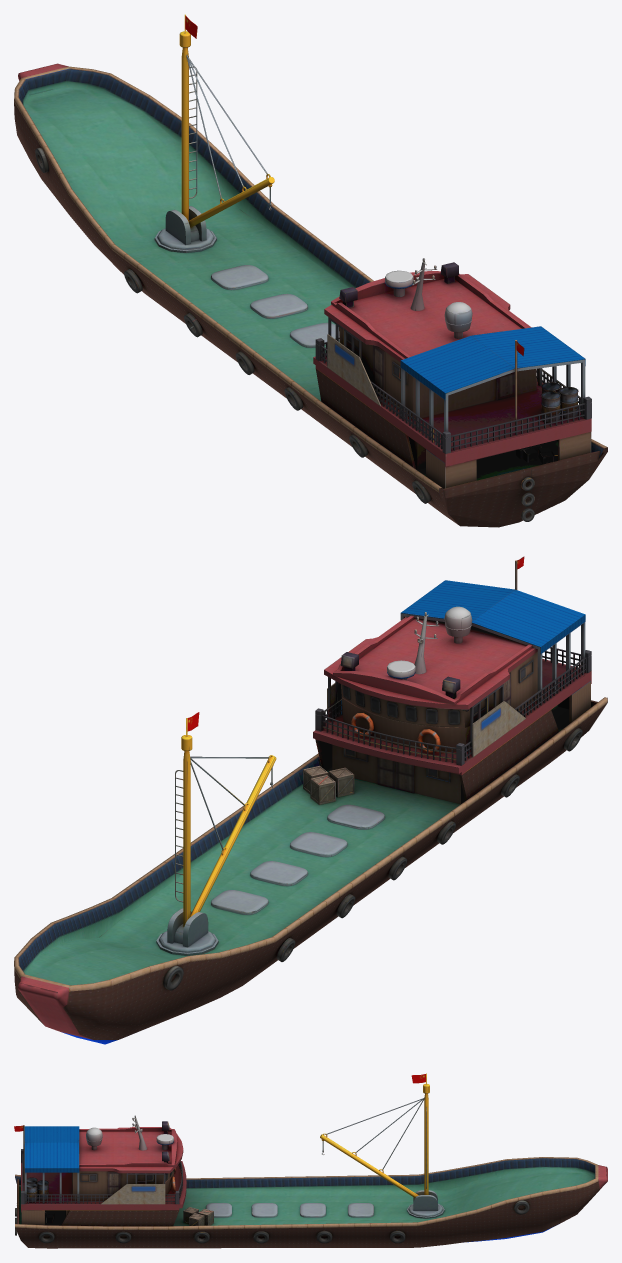
File: ship9.glb
The picture shows the model from 3 angles, top to bottom: view 1: azimuth 30°, elevation 25°; view 2: azimuth 150°, elevation 25°; view 3: azimuth 270°, elevation 25°; orthographic projection. The views are drawn at different scales.
Visible parts, largest first — view 1: yuchuan; view 2: yuchuan; view 3: yuchuan.
Boxes of the visible parts, box(x1,y1,x2,y2) form: yuchuan: box(14, 14, 607, 527); yuchuan: box(14, 556, 607, 1044); yuchuan: box(14, 1073, 607, 1248).
Size of the model in its own units: 15.71 by 24.33 by 78.43.
Materials: 1 (1 with a texture image).
